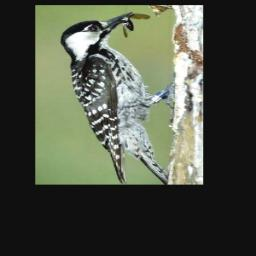Woodpecker: (61, 10, 176, 184)
